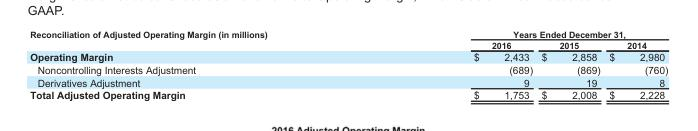table: (29, 29, 667, 100)
table column: (29, 29, 369, 100), (369, 29, 536, 100), (536, 29, 604, 100), (604, 29, 667, 100)
table column header: (29, 29, 667, 50)
table row: (29, 50, 667, 63), (29, 75, 667, 88), (29, 63, 667, 75), (29, 88, 667, 100), (29, 39, 667, 50), (29, 29, 667, 39)
table spanning cell: (29, 29, 369, 50), (369, 29, 667, 39)
